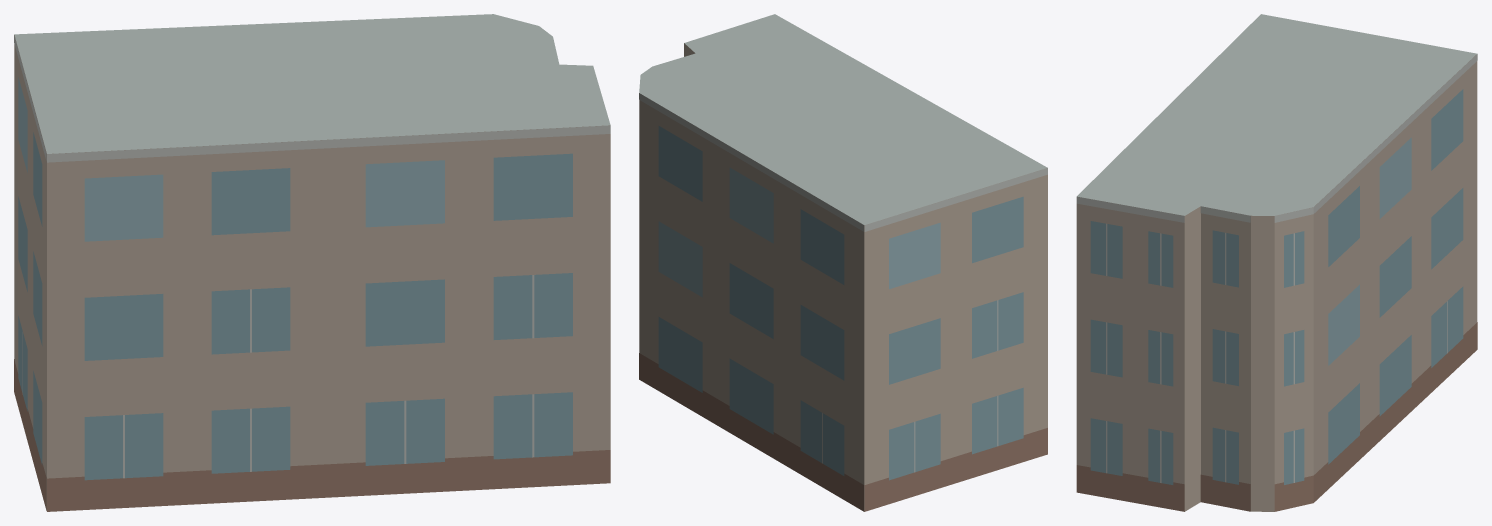
Rendered from survey-upis-32623788.glb.
3 renders of one model, left to right at view 1: azimuth 30°, elevation 25°; view 2: azimuth 150°, elevation 25°; view 3: azimuth 270°, elevation 25°, orthographic. The views are drawn at different scales.
Parts seen in each view (by area): view 1: survey-upis-32623788.tmp; view 2: survey-upis-32623788.tmp; view 3: survey-upis-32623788.tmp.
Part boxes in pixels (box(x1,y1,x2,y2)): survey-upis-32623788.tmp: box(14, 14, 610, 511); survey-upis-32623788.tmp: box(639, 14, 1047, 511); survey-upis-32623788.tmp: box(1076, 14, 1477, 511).
Bounding box in the file's own units: 14.94 × 10.2 × 12.53.
